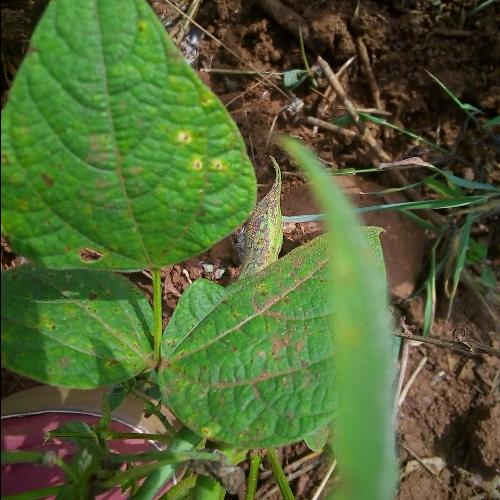embun tepung: (160, 291, 348, 439)
hawar: (11, 142, 126, 261), (147, 105, 242, 192)
